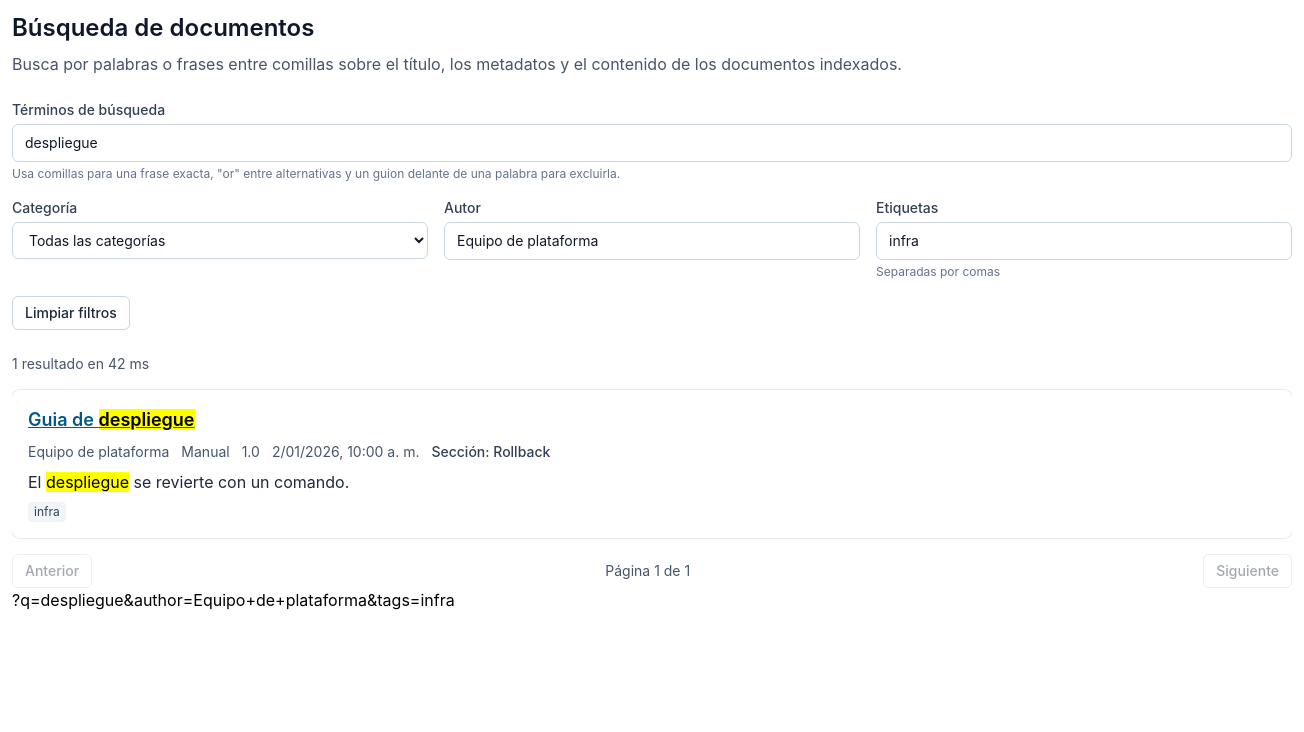
SearchPage › clears the filters without the debounced input putting them back
Expected: the link "Guia de despliegue" is shown, [28,409,194,430]
Click the button "Limpiar filtros" at point(71, 313), box [12,296,130,330]
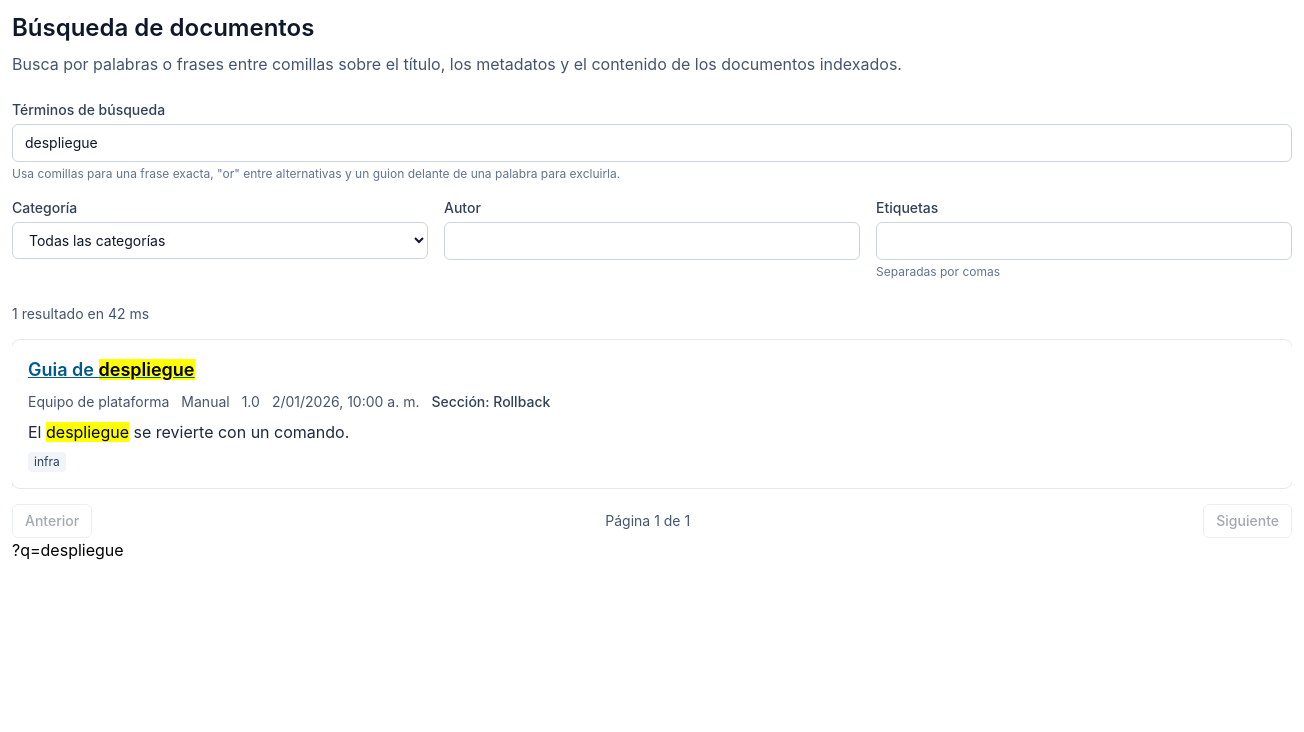
Expected: the text "?q=despliegue" is shown, [12,540,124,560]
Expected: the field labelled "Autor" is empty, [444,222,860,260]
